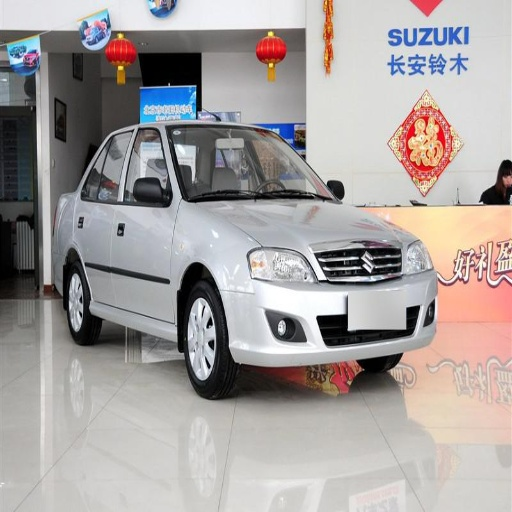front_bumper: (224, 247, 433, 368)
front_right_door: (113, 126, 176, 321)
front_right_light: (247, 244, 317, 286)
